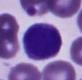L: (24, 22, 62, 59)
